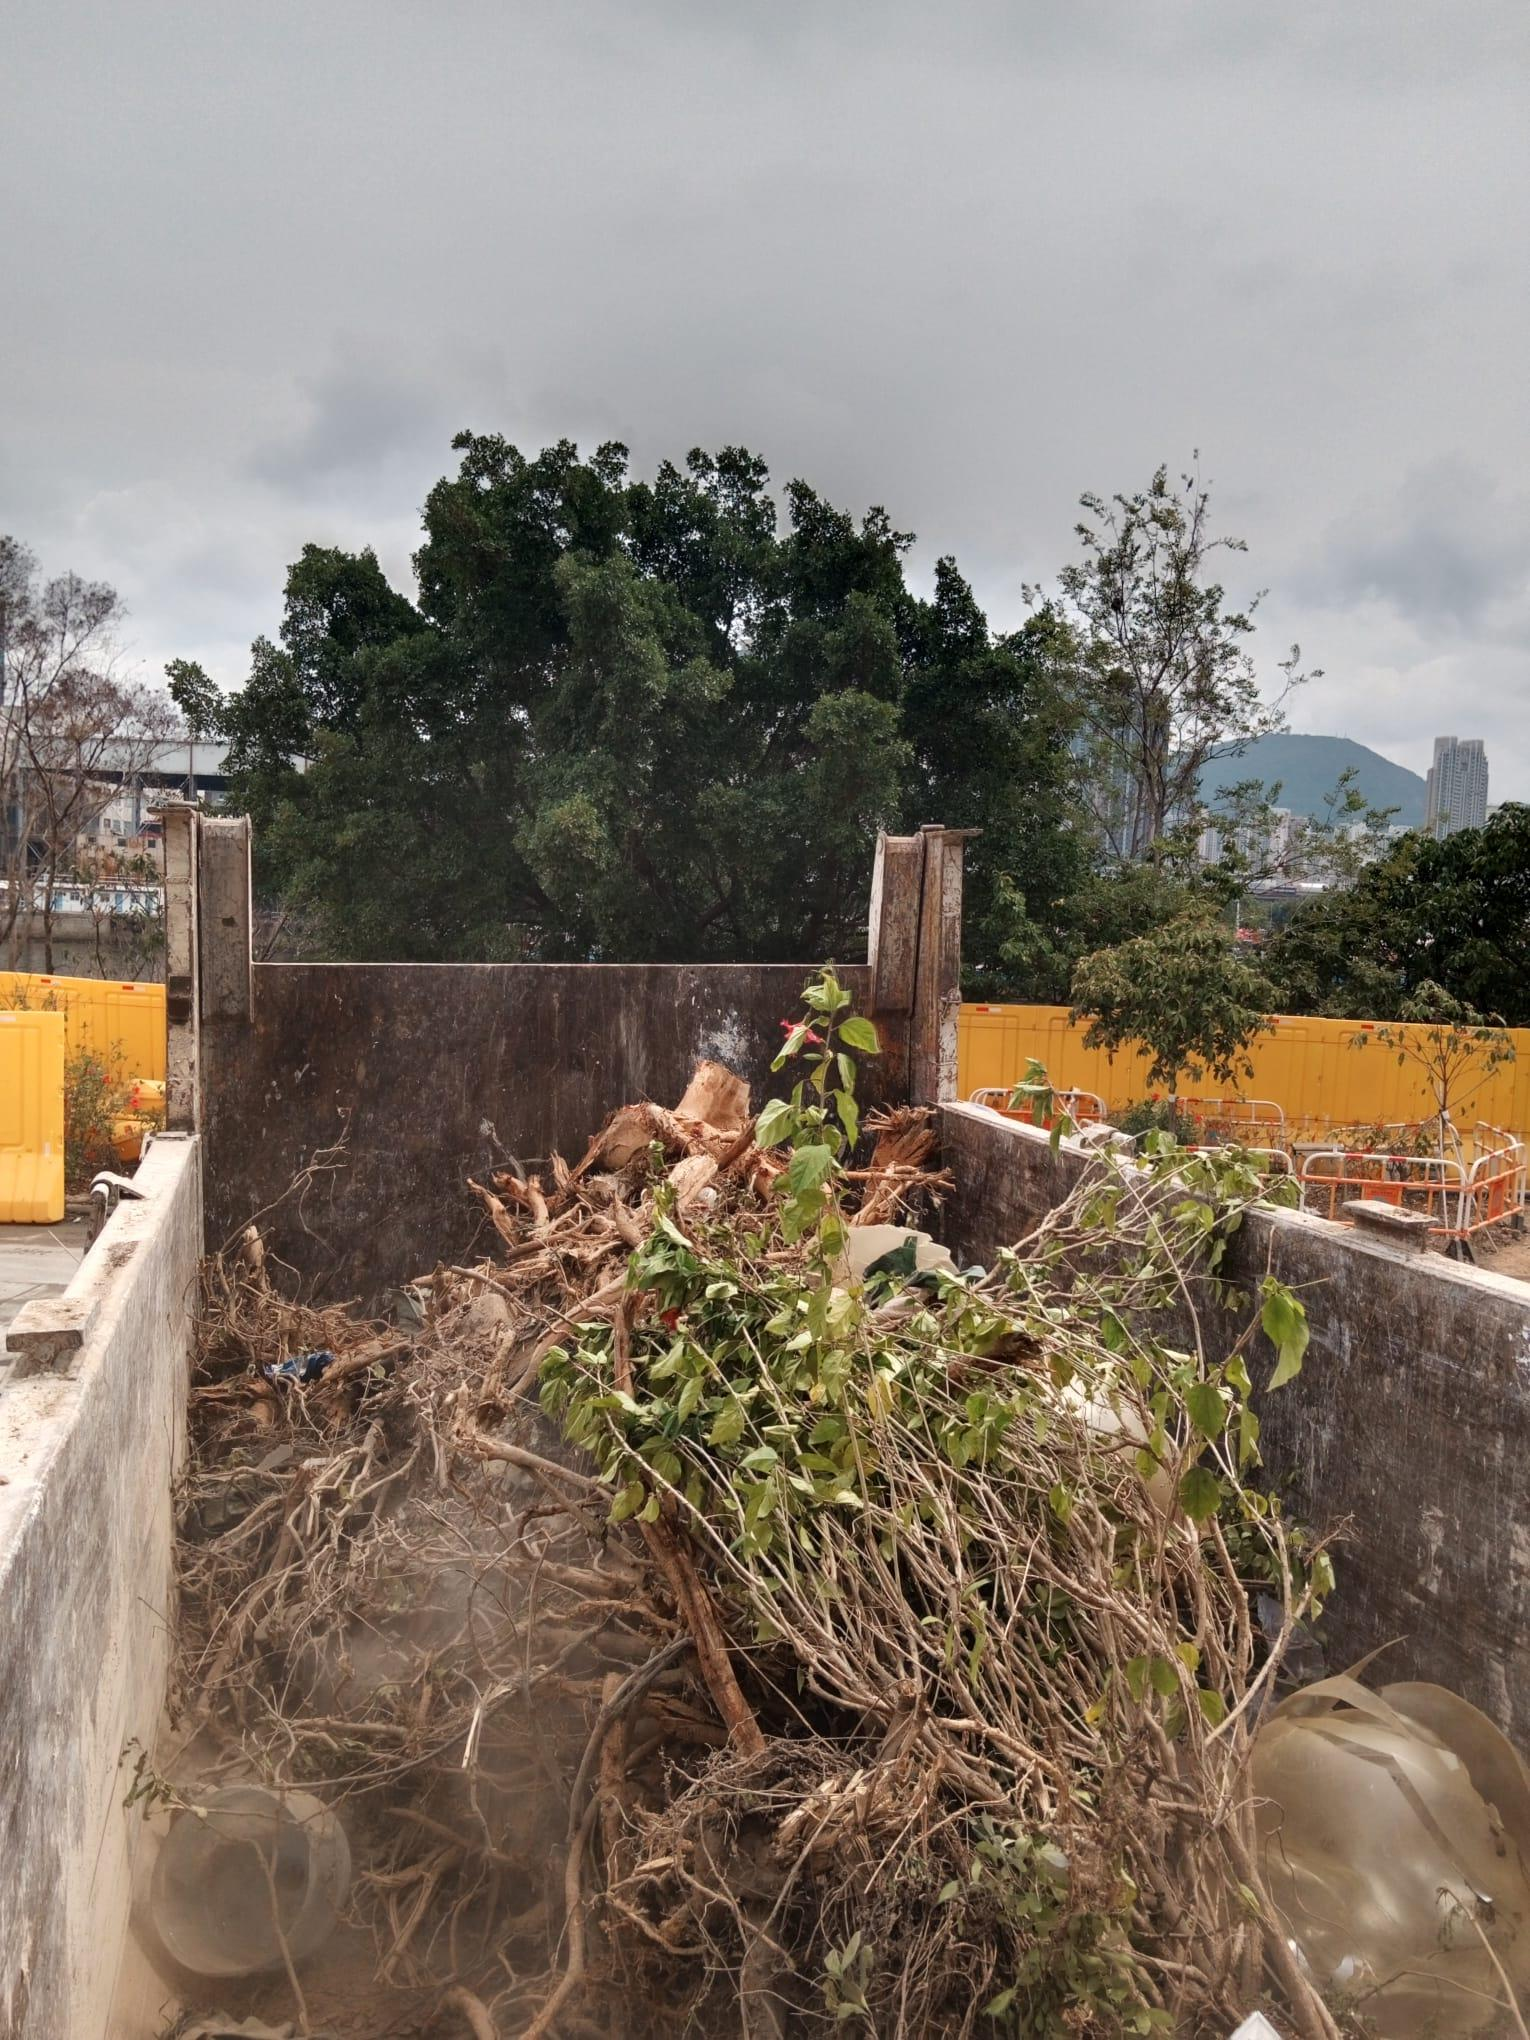wood: (301, 1267, 1233, 2016)
